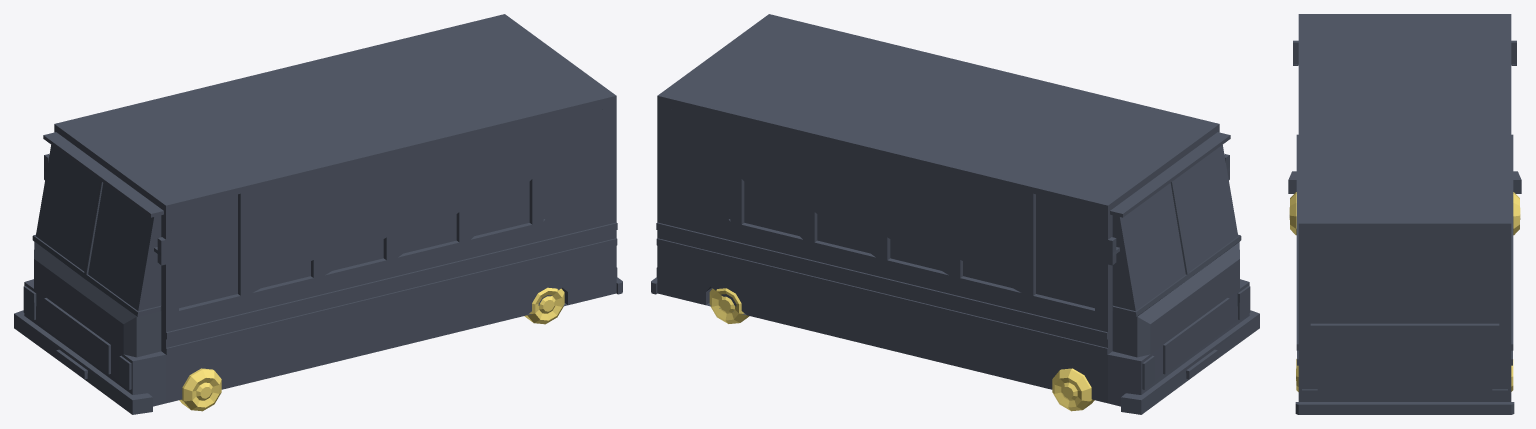
Rendered from bus.glb.
3 renders of one model, left to right at view 1: azimuth 30°, elevation 25°; view 2: azimuth 150°, elevation 25°; view 3: azimuth 270°, elevation 25°, orthographic. The views are drawn at different scales.
Parts seen in each view (by area): view 1: Bus_Cube.001, FrontWheels_Cylinder.006, BackWheels_Cylinder.007; view 2: Bus_Cube.001, FrontWheels_Cylinder.006, BackWheels_Cylinder.007; view 3: Bus_Cube.001, FrontWheels_Cylinder.006.
Boxes of the visible parts, left/top/right/bottom form: Bus_Cube.001: left=14, top=14, right=622, bottom=414; FrontWheels_Cylinder.006: left=179, top=368, right=221, bottom=411; BackWheels_Cylinder.007: left=524, top=287, right=564, bottom=324; Bus_Cube.001: left=651, top=14, right=1259, bottom=414; FrontWheels_Cylinder.006: left=1052, top=368, right=1094, bottom=411; BackWheels_Cylinder.007: left=709, top=288, right=749, bottom=323; Bus_Cube.001: left=1288, top=14, right=1521, bottom=414; FrontWheels_Cylinder.006: left=1289, top=192, right=1520, bottom=235.
Size of the model in its own units: 2.2 by 0.9023 by 0.9393.
